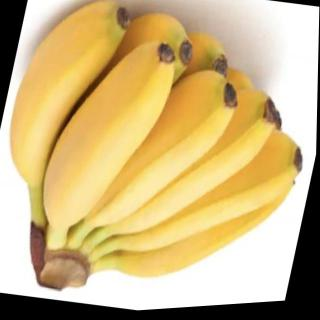banana: (118, 102, 312, 282), (106, 70, 284, 263), (34, 24, 184, 246), (83, 54, 245, 254), (0, 0, 134, 201)
